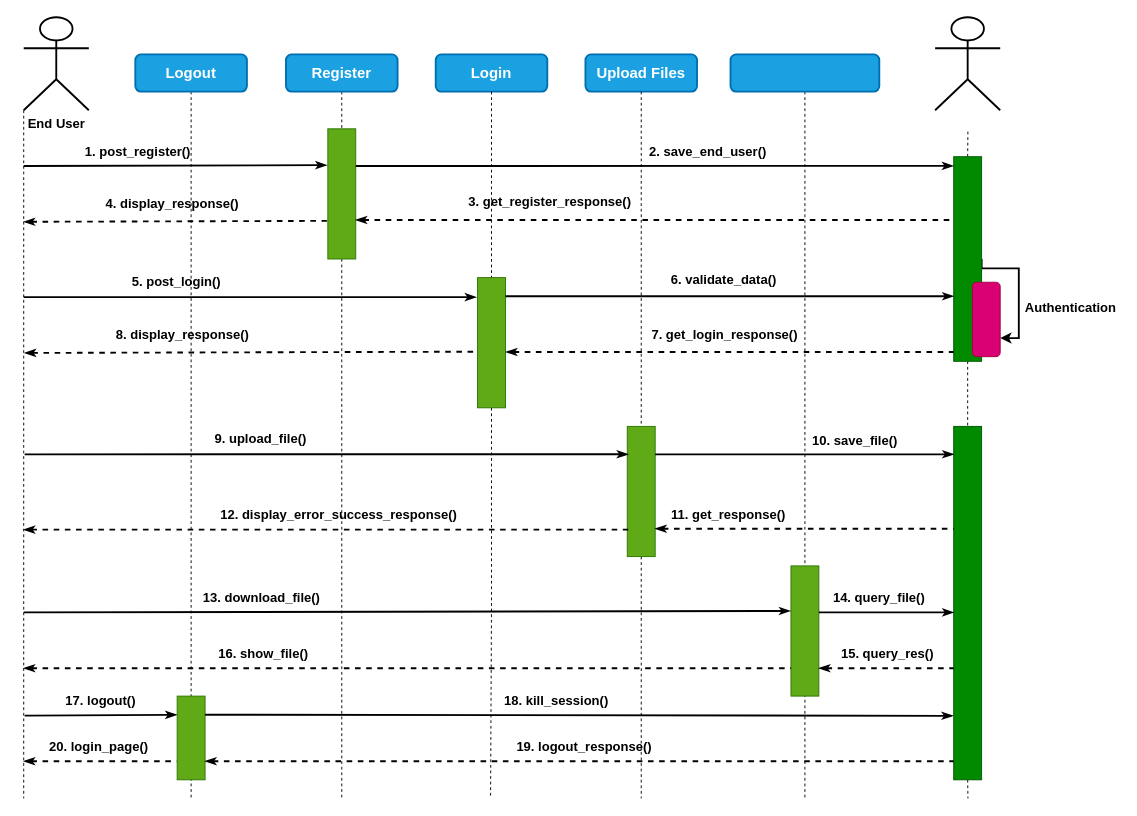
Image size: 1137x816. Some labels were removed from this diagram. Here are the shapes that lost their labels. From the top down, the centre of each, then its label:
At point (804, 72): "Download Files".
At point (967, 63): "Database".
